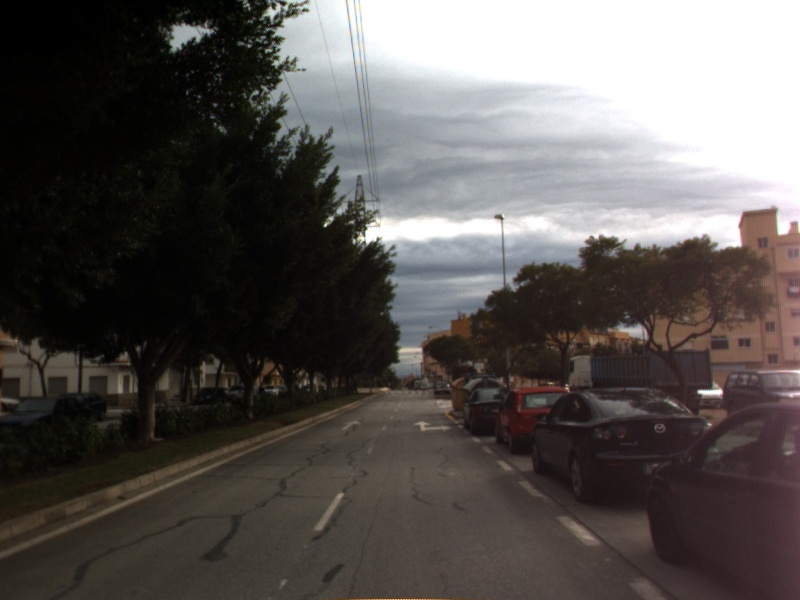STRAIGHT: (339, 417, 364, 432)
STRAIGHT_RIGHT: (411, 418, 454, 433)
